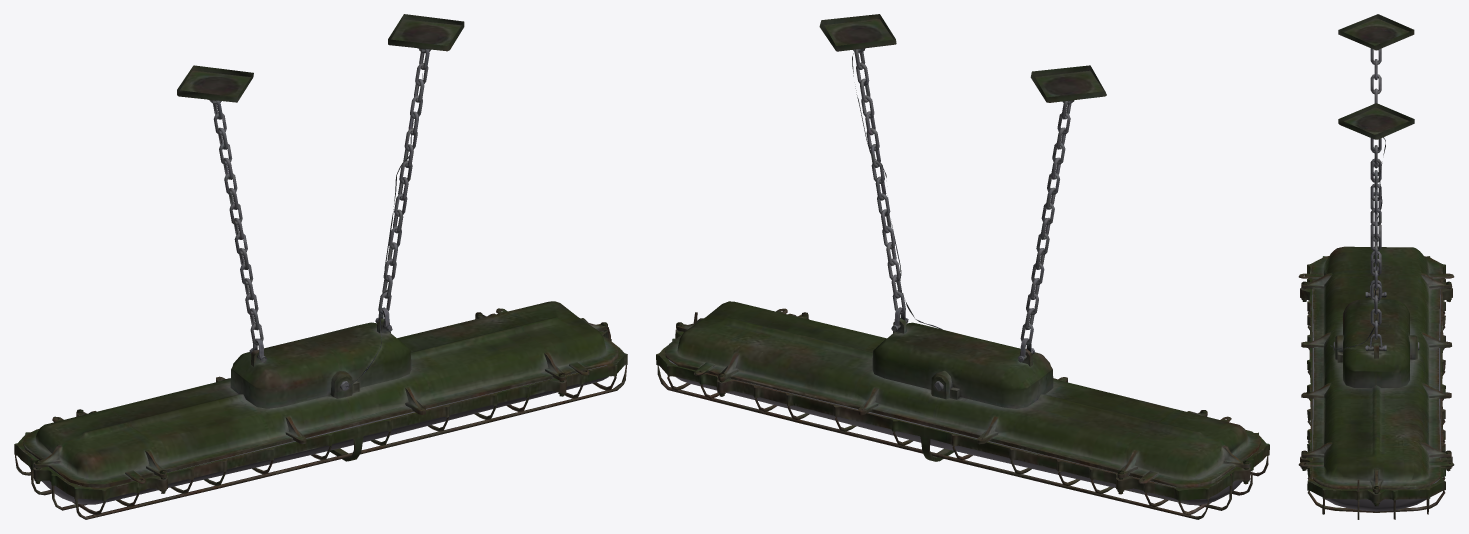
Rendered from caged_hanging_light.glb.
3 views of the same model, side by side, from view 1: azimuth 30°, elevation 25°; view 2: azimuth 150°, elevation 25°; view 3: azimuth 270°, elevation 25° (orthographic). The views are drawn at different scales.
Size of the model in its own units: 1.16 by 0.7501 by 0.3149.
Materials: 1 (1 with a texture image).
